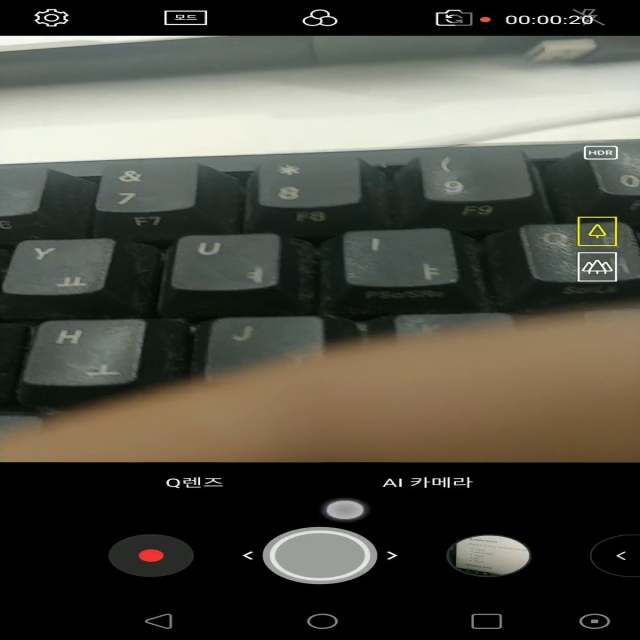Cursor: (323, 499, 368, 521)
